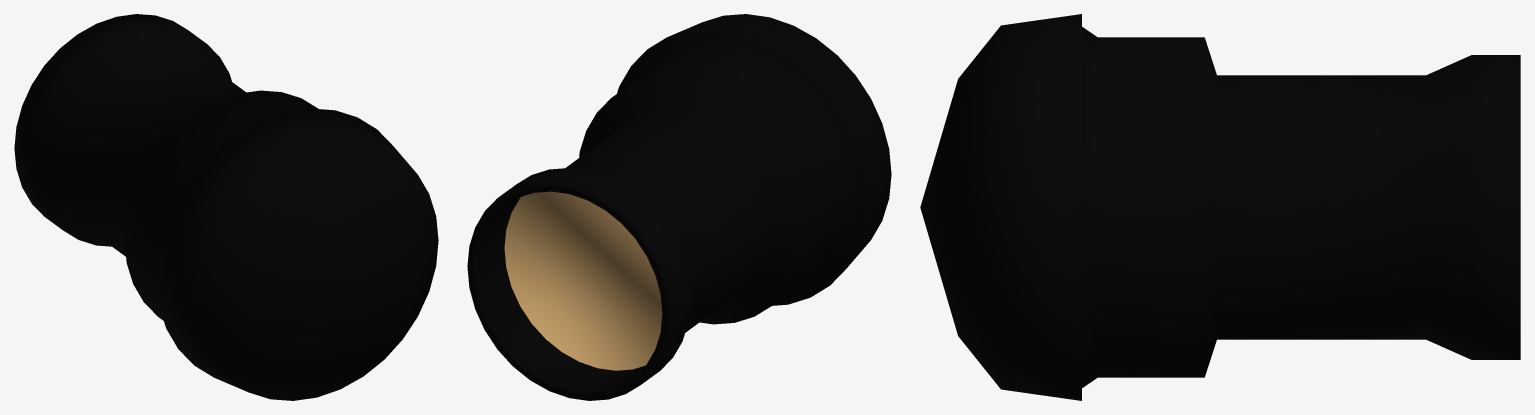
File: studiolight.fbx
The picture shows the model from 3 angles, left to right: view 1: azimuth 30°, elevation 25°; view 2: azimuth 150°, elevation 25°; view 3: azimuth 270°, elevation 25°; orthographic projection. The views are drawn at different scales.
Visible parts, largest first — view 1: 円柱; view 2: 円柱; view 3: 円柱.
Part boxes in pixels (bbox=[...]): 円柱: bbox=[14, 14, 438, 400]; 円柱: bbox=[467, 14, 891, 400]; 円柱: bbox=[920, 14, 1520, 400].
Size of the model in its own units: 50.98 by 50.98 by 79.02.
